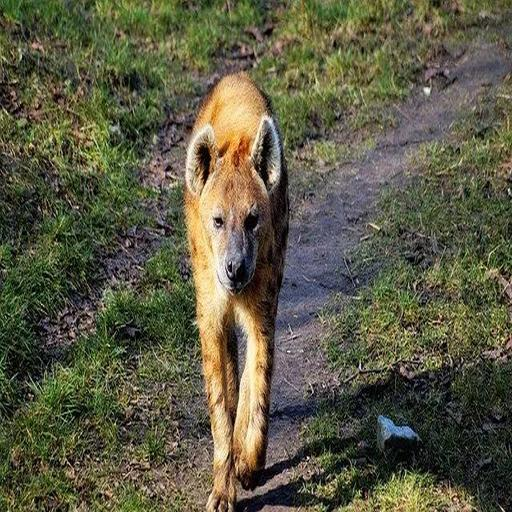Hyena: (156, 71, 300, 512)
